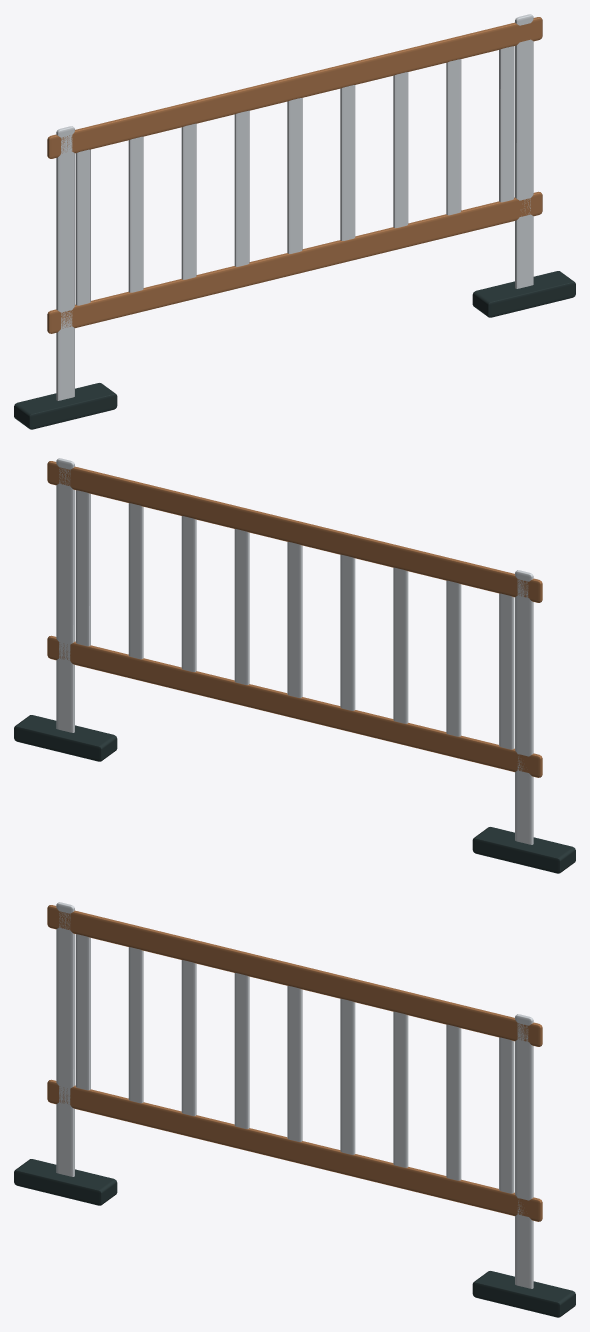
The model's file is wp-garde-corps.glb.
3 views of the same model, one above another, from view 1: azimuth 30°, elevation 25°; view 2: azimuth 150°, elevation 25°; view 3: azimuth 330°, elevation 25° (orthographic).
Parts seen in each view (by area): view 1: wp-garde-corps; view 2: wp-garde-corps; view 3: wp-garde-corps.
Part boxes in pixels (bbox=[...]): wp-garde-corps: bbox=[14, 14, 575, 429]; wp-garde-corps: bbox=[14, 458, 575, 873]; wp-garde-corps: bbox=[14, 902, 575, 1317].
Size of the model in its own units: 2 by 1 by 0.1.
